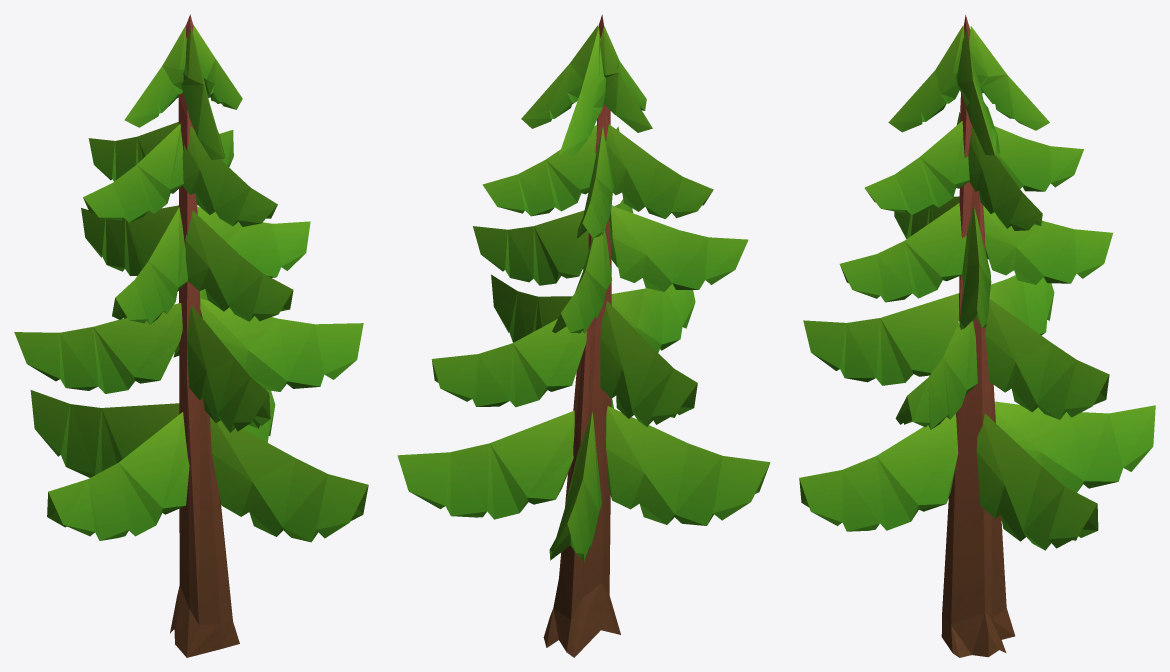
The picture shows the model from 3 angles, left to right: view 1: azimuth 30°, elevation 25°; view 2: azimuth 150°, elevation 25°; view 3: azimuth 270°, elevation 25°; orthographic projection. The views are drawn at different scales.
Parts seen in each view (by area): view 1: Conifer2_Low; view 2: Conifer2_Low; view 3: Conifer2_Low.
Boxes of the visible parts, <box> form: Conifer2_Low: <box>14,14,368,657</box>; Conifer2_Low: <box>397,14,770,657</box>; Conifer2_Low: <box>799,15,1155,657</box>.
Size of the model in its own units: 5.12 by 10.43 by 5.41.
1 material, 1 textured.
